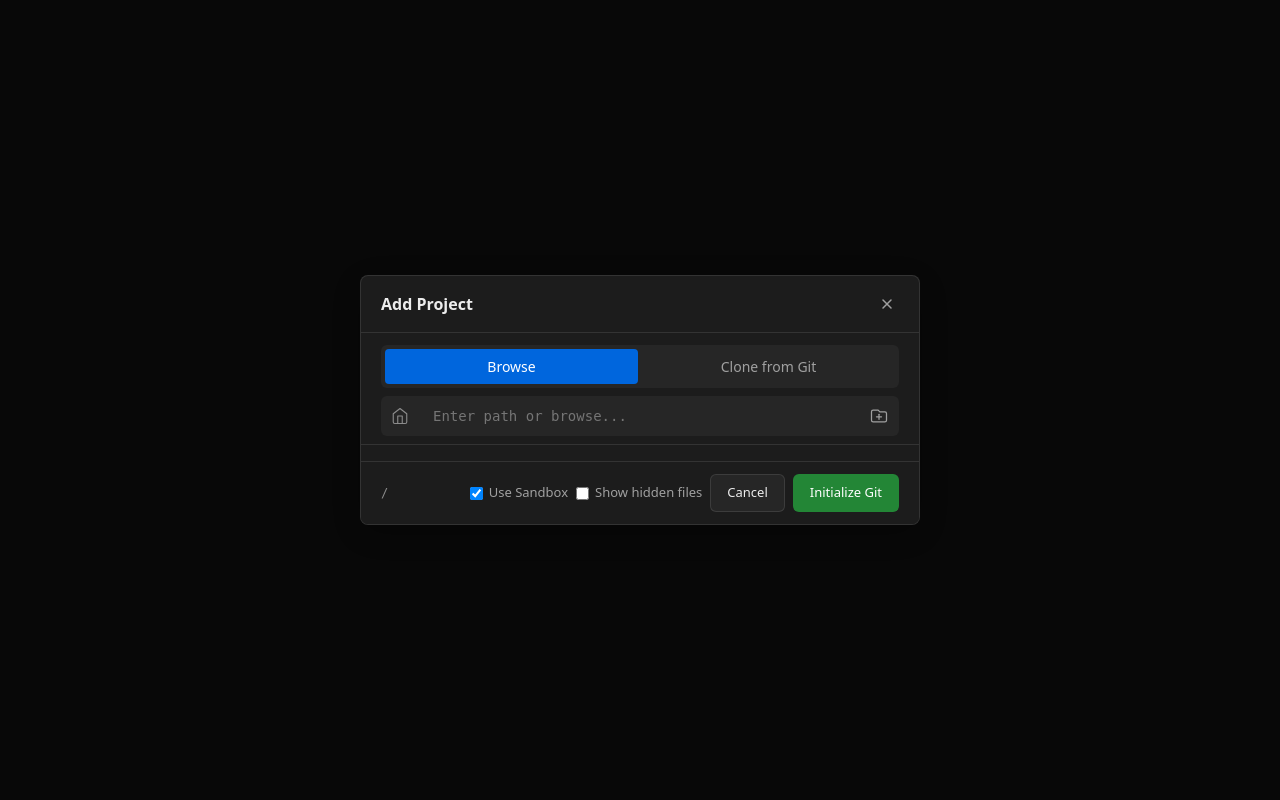
Scenario: FileBrowser — the host directory jail is shown by its refusal › shows the server refusal, unchanged, for a directory outside the jail
Click the button with class "home-btn".
click(400, 416)  # box [385, 400, 415, 432]
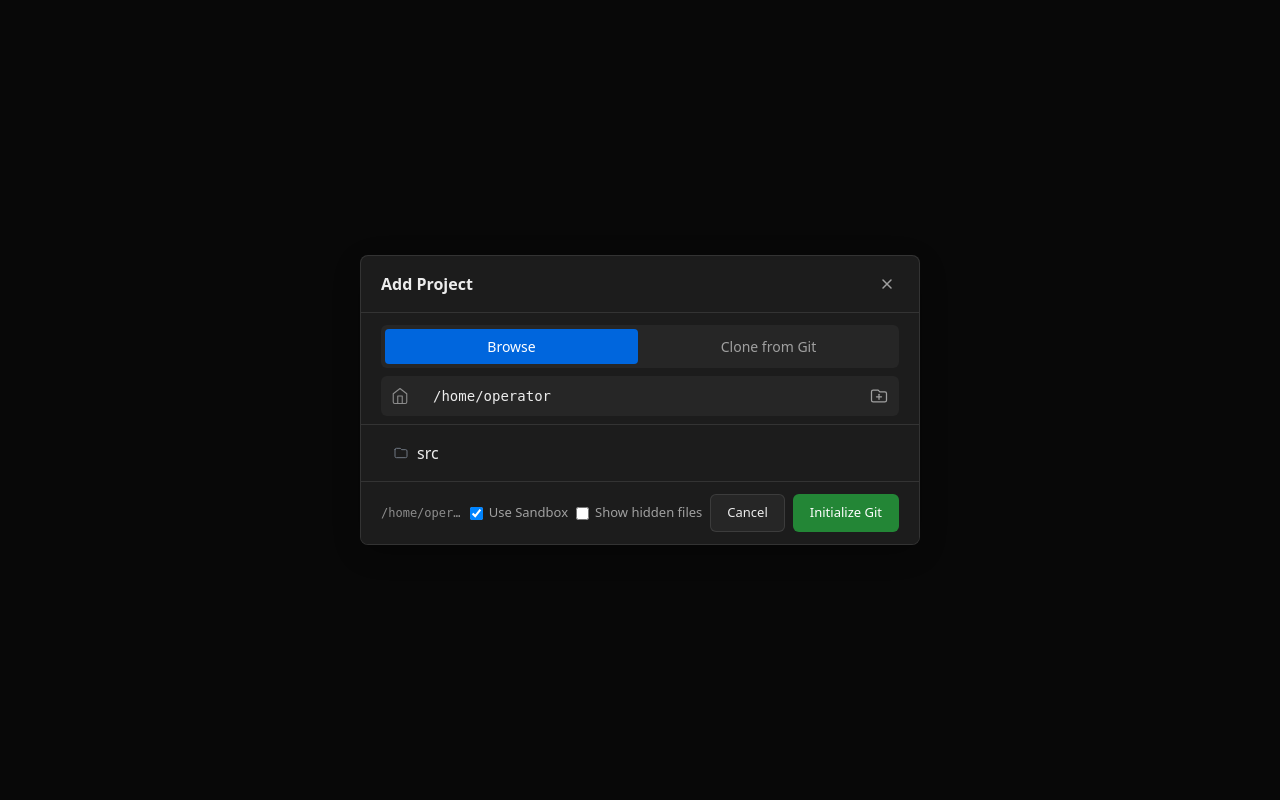
Expected: the button with class "file-entry" is shown, [381, 433, 899, 473]
Replace the text in the field named "File path" with "/etc/ssh" at point(639, 396), box [423, 380, 855, 412]
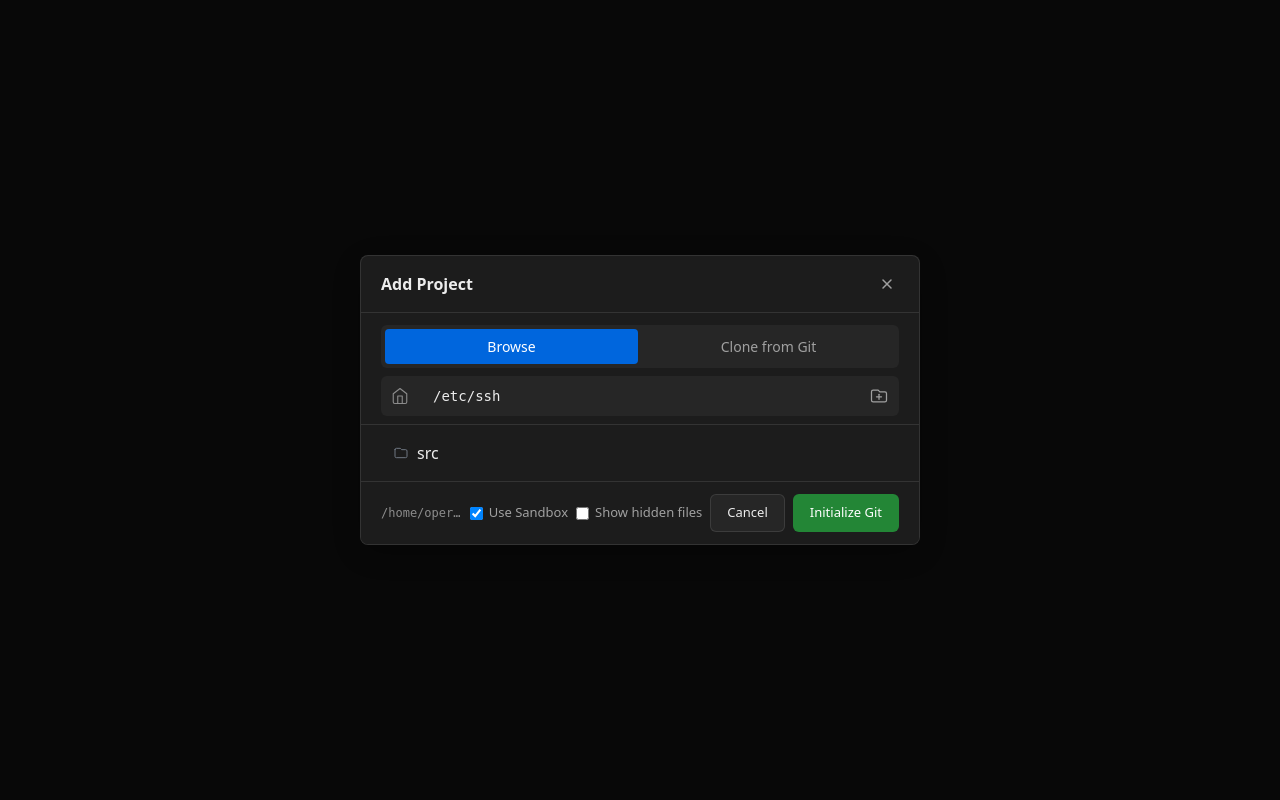
Press Enter in the field named "File path", box [423, 380, 855, 412]
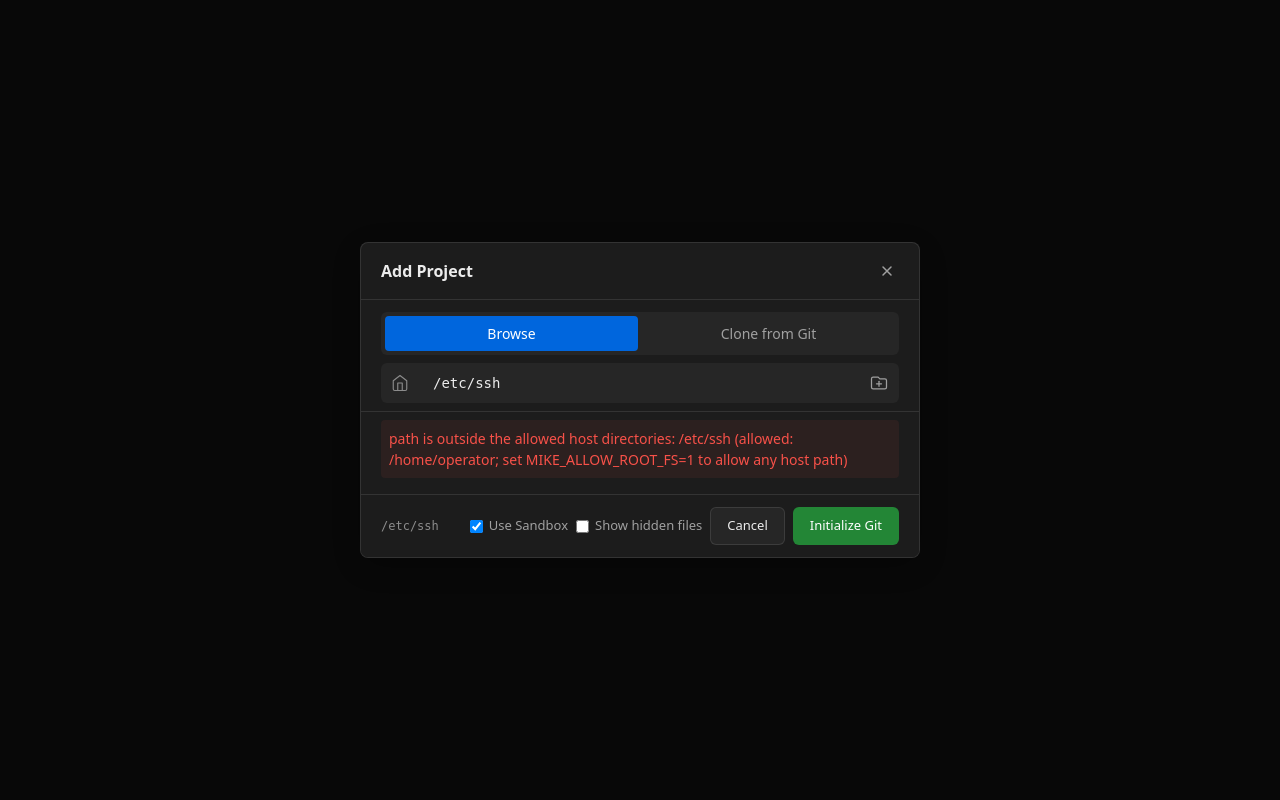
Expected: the text with class "error" is shown, [381, 420, 899, 478]
Expected: the text with class "error" shows "MIKE_ALLOW_ROOT_FS", [389, 429, 847, 469]
Expected: no buttons with class "file-entry" are shown
